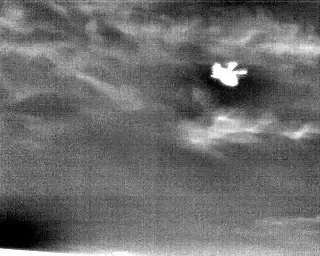HELICOPTER: (208, 56, 251, 92)
